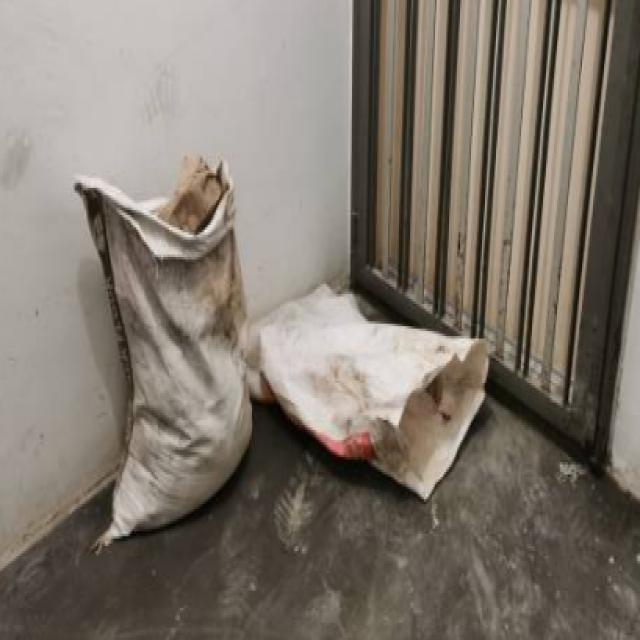KantongSemen: (72, 151, 255, 556), (259, 278, 493, 514)
